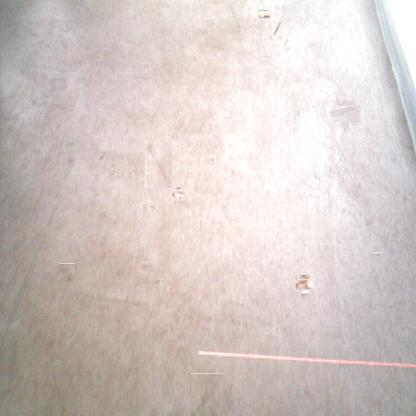dirty: (297, 277, 312, 292), (174, 189, 185, 199), (257, 10, 270, 18)
mark: (189, 373, 223, 416), (145, 140, 172, 188), (334, 103, 358, 126), (59, 264, 76, 282), (272, 21, 282, 37), (94, 152, 106, 164), (282, 37, 289, 52), (66, 156, 74, 166), (108, 170, 118, 178), (140, 262, 149, 270), (207, 156, 216, 164), (292, 271, 298, 283), (284, 311, 290, 323), (154, 278, 162, 286), (149, 204, 157, 211), (375, 251, 382, 259), (340, 206, 346, 215), (223, 264, 229, 271)
